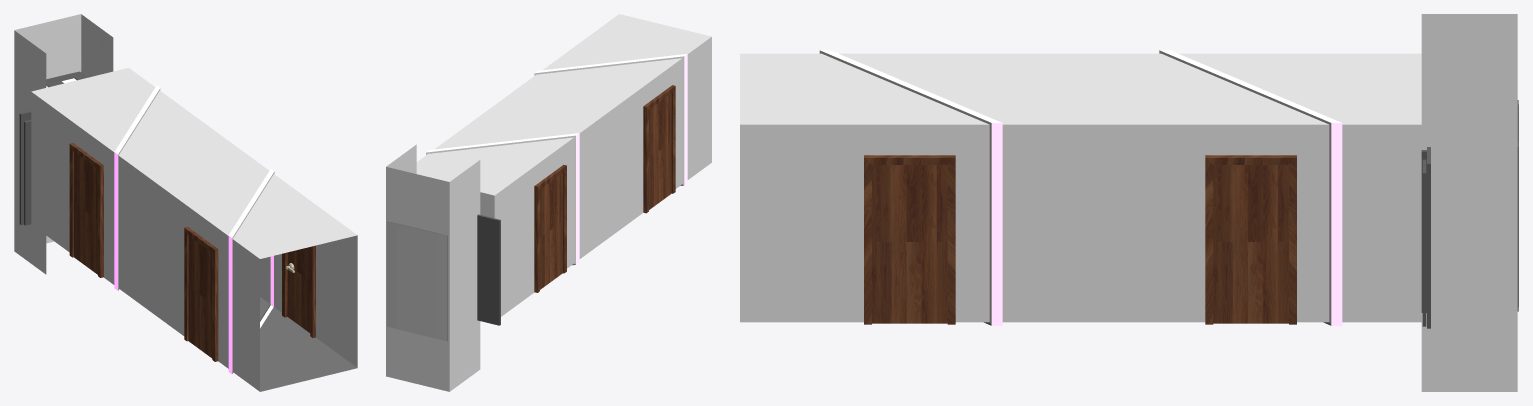
3 views of the same model, side by side, from view 1: azimuth 30°, elevation 25°; view 2: azimuth 150°, elevation 25°; view 3: azimuth 270°, elevation 25° (orthographic). The views are drawn at different scales.
Parts seen in each view (by area): view 1: Corridor_Middle, Corridor_End, Door.001, Door.005, Door.004, DoorFrame.001, DoorFrame.003, DoorFrame.002, Elevator_Outside_LeftDoor, Elevator_Inside_LeftDoor, Elevador_Inside; view 2: Corridor_End, Corridor_Middle, Elevador_Inside, Elevator_Inside_LeftDoor, Door.001, Door.005, DoorFrame.001, DoorFrame.003; view 3: Corridor_End, Corridor_Middle, Door.004, Door.006, DoorFrame.002, DoorFrame.004, Elevator_Outside_RightDoor, Elevator_Inside_RightDoor.
Boxes of the visible parts, <box> form: Corridor_Middle: <box>145,152,357,391</box>; Corridor_End: <box>14,14,243,307</box>; Door.001: <box>188,236,212,358</box>; Door.005: <box>74,151,97,274</box>; Door.004: <box>285,247,310,332</box>; DoorFrame.001: <box>184,227,218,361</box>; DoorFrame.003: <box>69,143,103,277</box>; DoorFrame.002: <box>282,245,315,337</box>; Elevator_Outside_LeftDoor: <box>24,120,31,225</box>; Elevator_Inside_LeftDoor: <box>19,111,31,224</box>; Elevador_Inside: <box>46,71,87,87</box>; Corridor_End: <box>386,93,603,391</box>; Corridor_Middle: <box>511,14,711,241</box>; Elevador_Inside: <box>387,221,447,341</box>; Elevator_Inside_LeftDoor: <box>477,214,500,325</box>; Door.001: <box>649,93,671,209</box>; Door.005: <box>540,173,562,289</box>; DoorFrame.001: <box>643,85,675,213</box>; DoorFrame.003: <box>534,164,566,292</box>; Corridor_End: <box>1079,14,1517,391</box>; Corridor_Middle: <box>740,50,1081,325</box>; Door.004: <box>872,165,947,323</box>; Door.006: <box>1213,165,1288,323</box>; DoorFrame.002: <box>864,155,955,324</box>; DoorFrame.004: <box>1205,155,1296,324</box>; Elevator_Outside_RightDoor: <box>1422,159,1426,326</box>; Elevator_Inside_RightDoor: <box>1427,147,1430,328</box>.
Bounding box in the file's own units: 234 × 433 × 928.
Materials: 9 (1 with a texture image).
